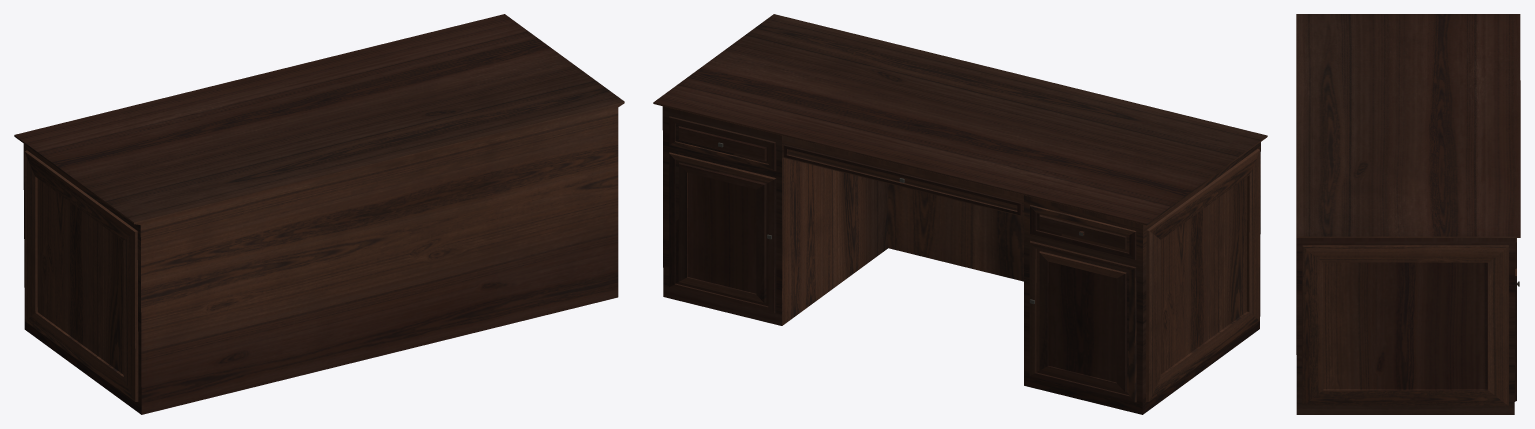
Rendered from FUR0210056.fbx.
The picture shows the model from 3 angles, left to right: view 1: azimuth 30°, elevation 25°; view 2: azimuth 150°, elevation 25°; view 3: azimuth 270°, elevation 25°; orthographic projection. The views are drawn at different scales.
Visible parts, largest first — view 1: smFUR0210056; view 2: smFUR0210056; view 3: smFUR0210056.
Boxes of the visible parts, x1,y1,x2,y2 form: smFUR0210056: (14,14,624,414); smFUR0210056: (653,14,1267,414); smFUR0210056: (1296,14,1520,414).
Size of the model in its own units: 254 by 96.66 by 108.
1 material, 1 textured.
